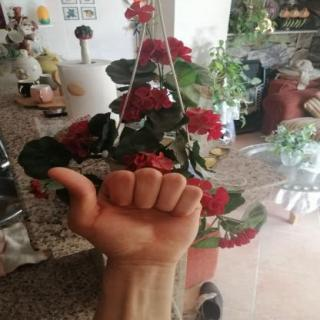DAD: (36, 157, 212, 271)
